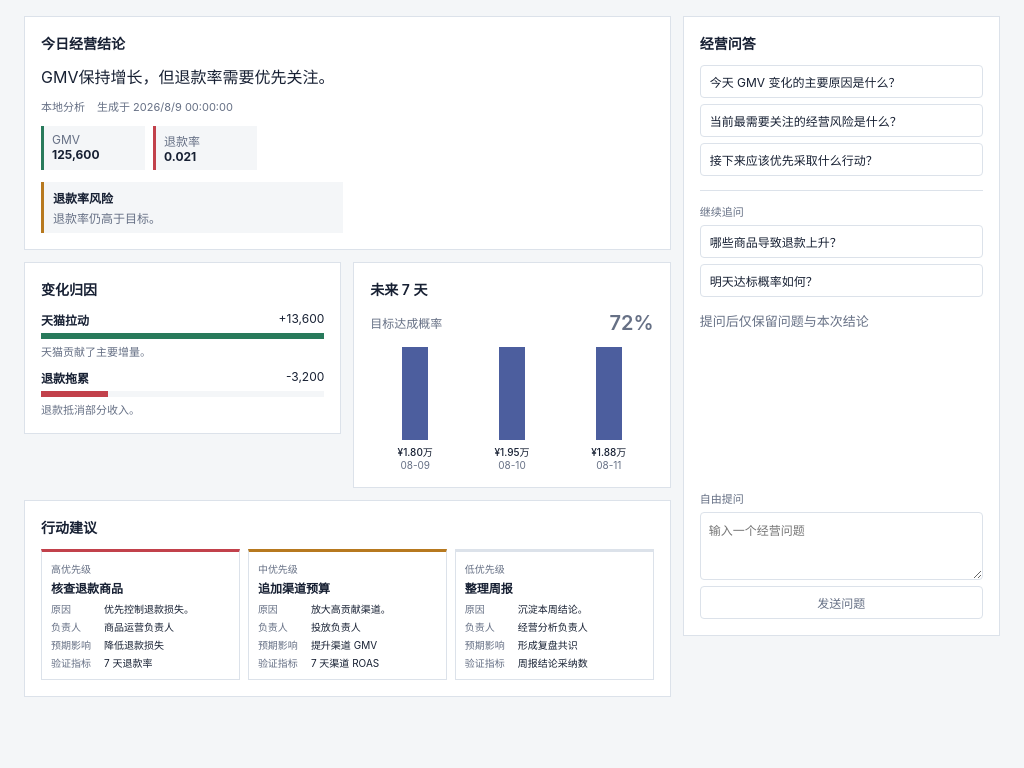
Test: 智能分析内容与问答 › 点击后续问题会发起新请求并记录问题与本次摘要
This screenshot has width=1024, height=768.
Expected: the text "GMV保持增长，但退款率需要优先关注。" is shown, [41,67,334,87]
What coordinates should you click on to do the following:
click the button "哪些商品导致退款上升？"
I would click on:
 (841, 242)
Its box is [700,225,983,258].
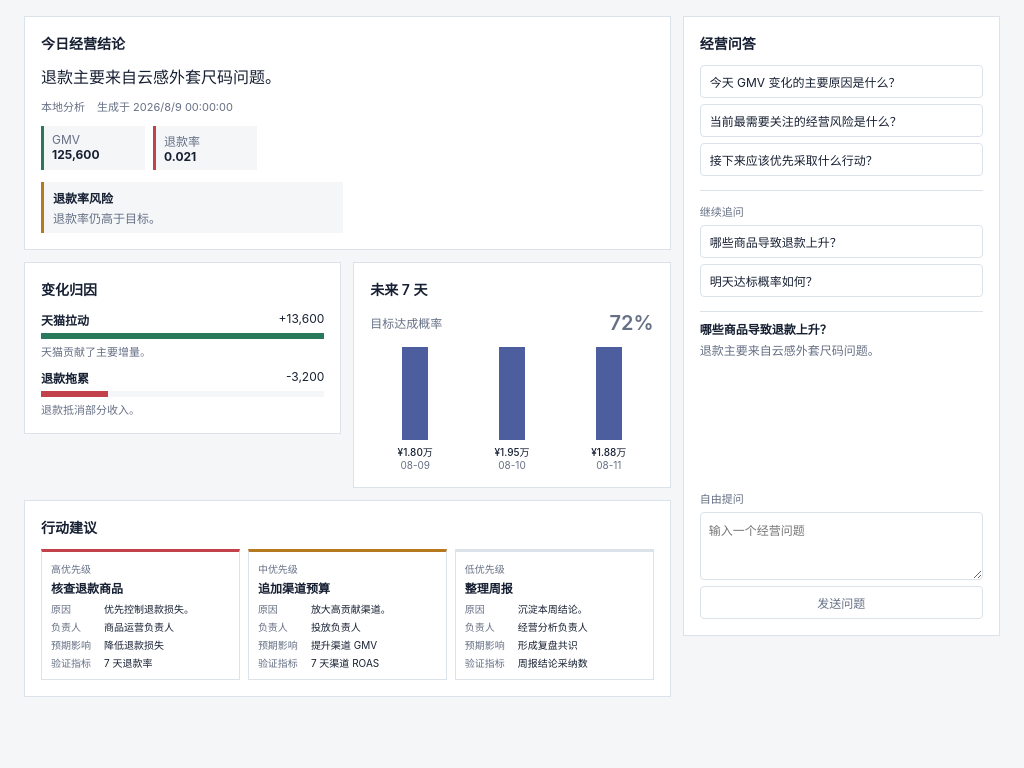
Expected: the text "退款主要来自云感外套尺码问题。" is shown 2 times, [41,67,281,87]; [700,343,880,358]
Now the element showing "哪些商品导致退款上升？ 退款主要来自云感外套尺码问题。" is shown, box [700,311,983,366]
